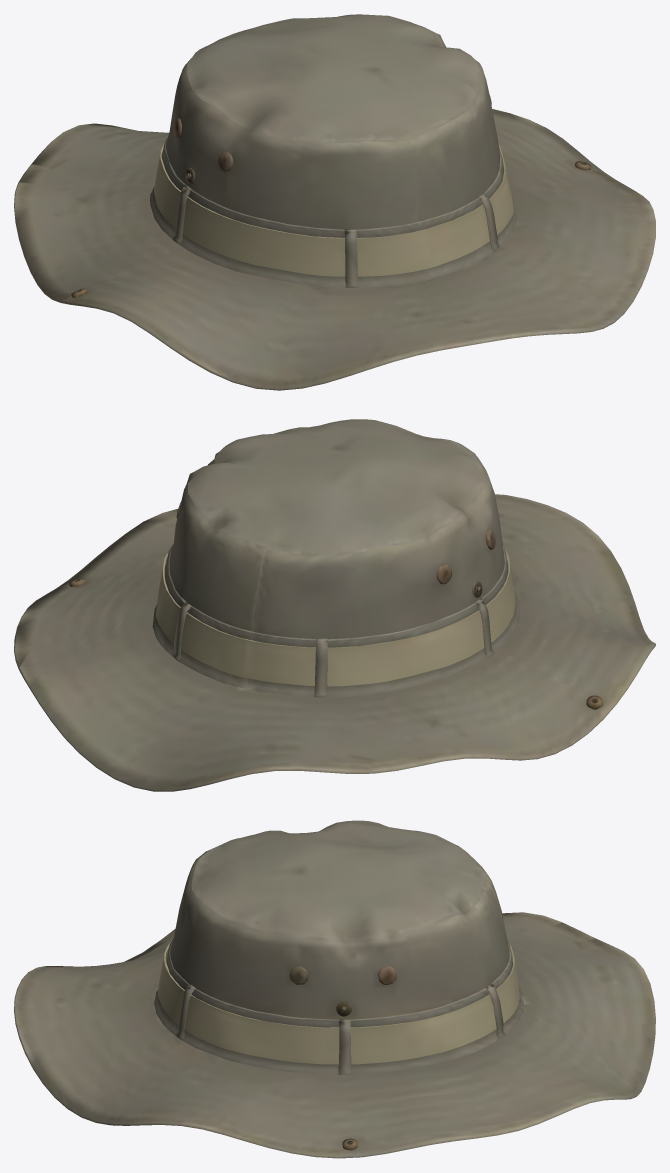
The model's file is fishermans_hat.glb.
The picture shows the model from 3 angles, top to bottom: view 1: azimuth 30°, elevation 25°; view 2: azimuth 150°, elevation 25°; view 3: azimuth 270°, elevation 25°; orthographic projection. The views are drawn at different scales.
Parts seen in each view (by area): view 1: fishermans_hat; view 2: fishermans_hat; view 3: fishermans_hat.
Boxes of the visible parts, x1,y1,x2,y2 form: fishermans_hat: (14, 14, 655, 390); fishermans_hat: (14, 419, 655, 791); fishermans_hat: (14, 820, 655, 1158).
Bounding box in the file's own units: 0.3236 × 0.124 × 0.35.
1 material, 1 textured.
